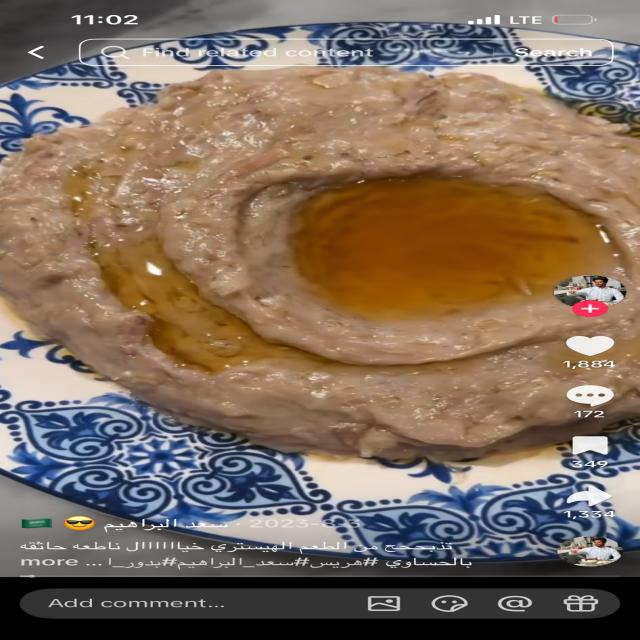Harees: (0, 63, 640, 467)
